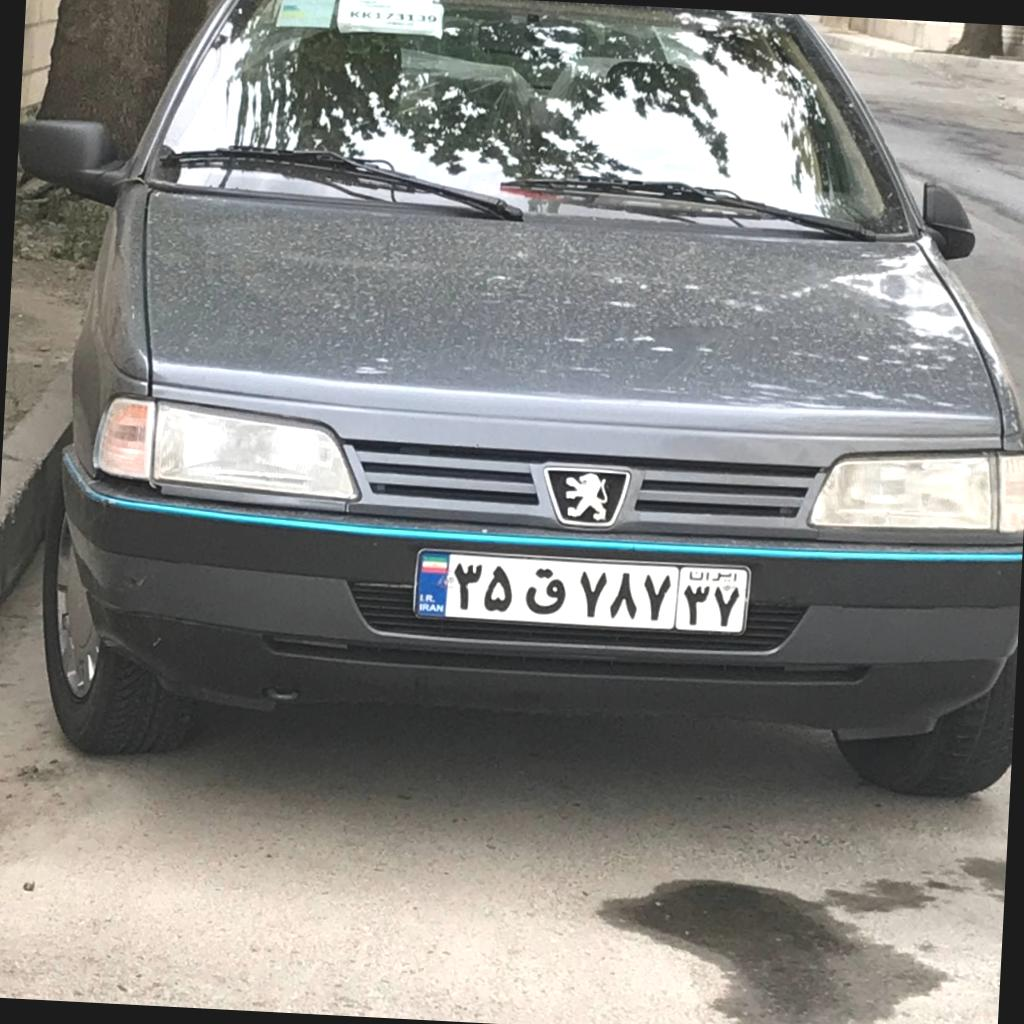Plates: (417, 551, 748, 632)
